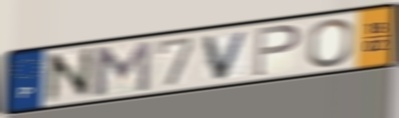7: (154, 35, 196, 89)
M: (91, 38, 153, 98)
N: (45, 45, 95, 106)
O: (306, 16, 355, 69)
P: (252, 22, 303, 79)
V: (201, 28, 253, 82)
